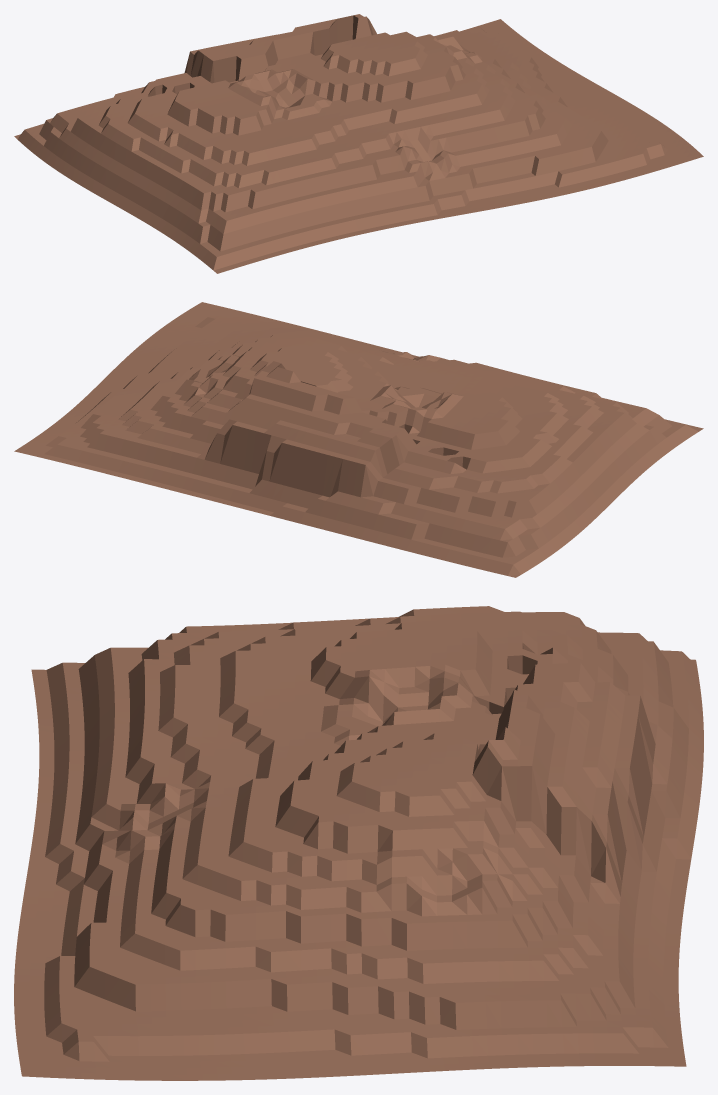
Rendered from Layered_Hills_Curved_Collider.glb.
The picture shows the model from 3 angles, top to bottom: view 1: azimuth 30°, elevation 25°; view 2: azimuth 150°, elevation 25°; view 3: azimuth 270°, elevation 25°; orthographic projection. The views are drawn at different scales.
Parts seen in each view (by area): view 1: world; view 2: world; view 3: world.
Boxes of the visible parts, box(x1,y1,x2,y2) form: world: box(14, 14, 703, 273); world: box(14, 302, 703, 577); world: box(14, 606, 703, 1080).
Bounding box in the file's own units: 167 × 32.38 × 114.
